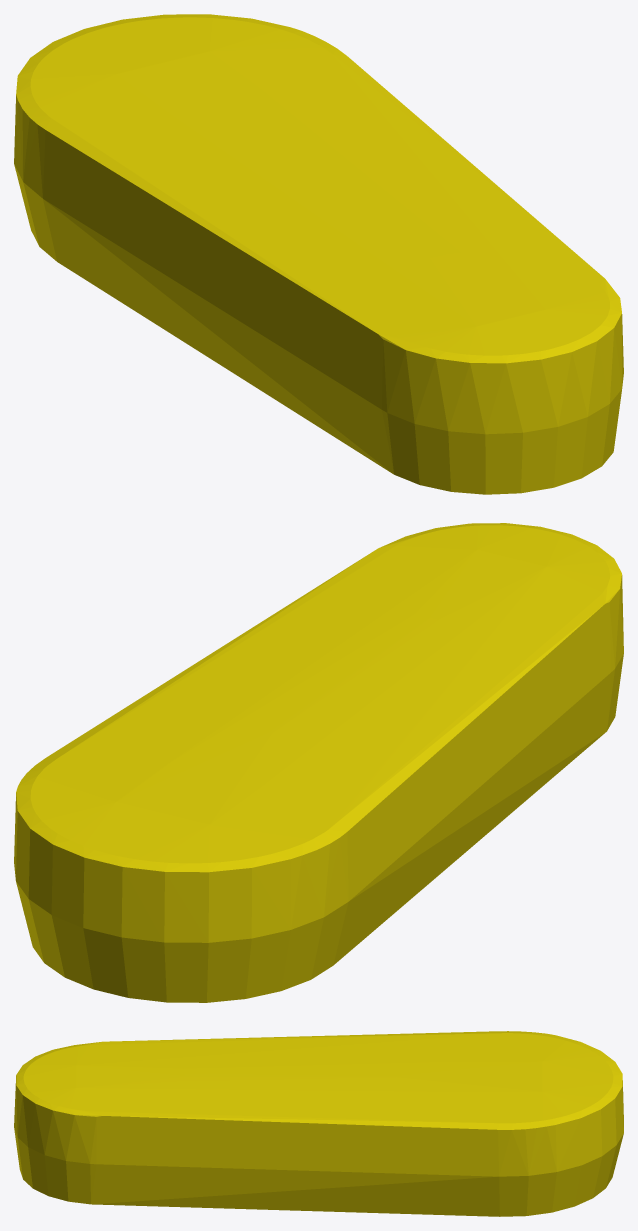
File: arm_link_collision.dae
The picture shows the model from 3 angles, top to bottom: view 1: azimuth 30°, elevation 25°; view 2: azimuth 150°, elevation 25°; view 3: azimuth 270°, elevation 25°; orthographic projection. The views are drawn at different scales.
Visible parts, largest first — view 1: node; view 2: node; view 3: node.
Boxes of the visible parts, x1,y1,x2,y2 form: node: (14, 14, 623, 494); node: (14, 523, 623, 1002); node: (14, 1031, 623, 1216).
Bounding box in the file's own units: 0.4973 × 0.2215 × 1.28.
Materials: 1 (1 with a texture image).
